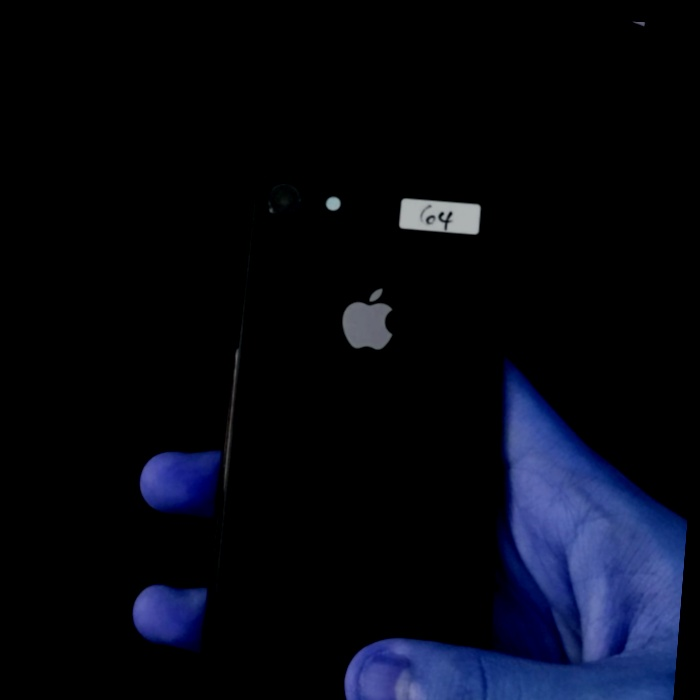iphone: (215, 116, 571, 681)
